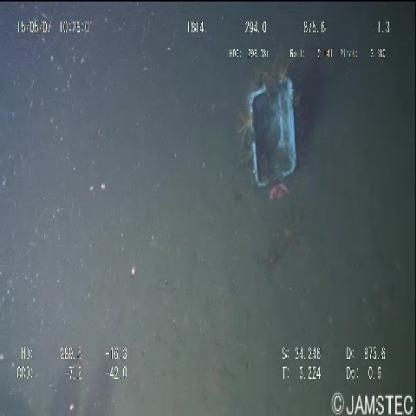Rác: (240, 60, 305, 211)
